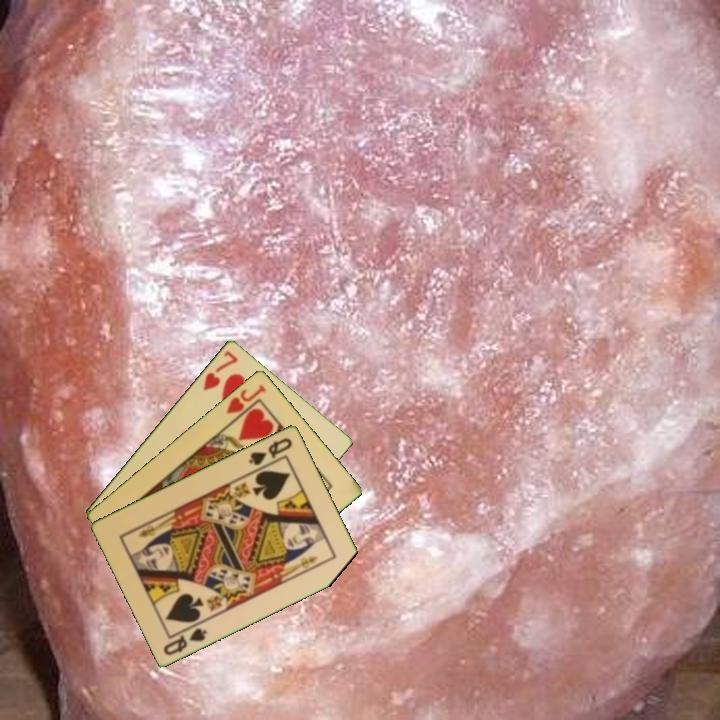7h: (199, 346, 241, 393)
Jh: (223, 381, 269, 426)
Qs: (160, 618, 210, 658), (245, 434, 295, 468)
